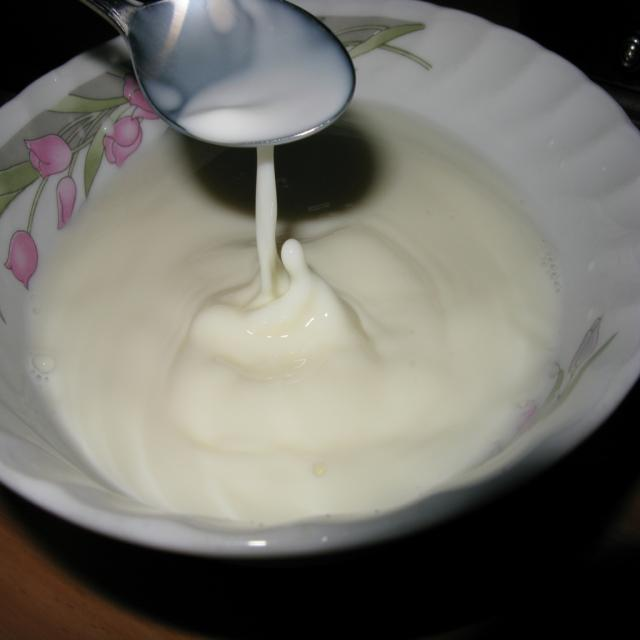ceramic plate: (3, 2, 640, 580)
